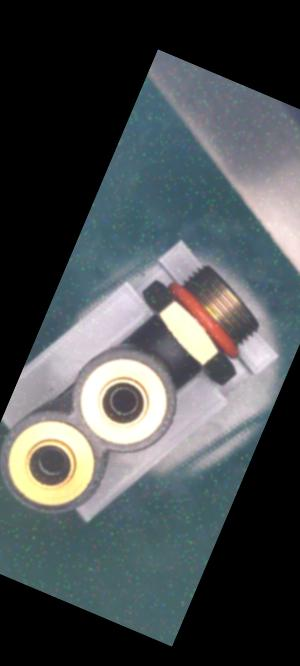joint line: (163, 340, 179, 363)
